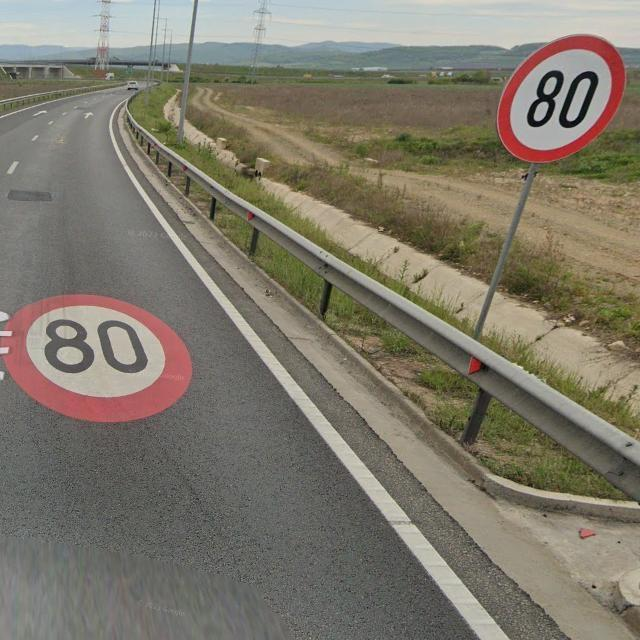forb_speed_over_80: (1, 290, 194, 426), (496, 33, 626, 163)
